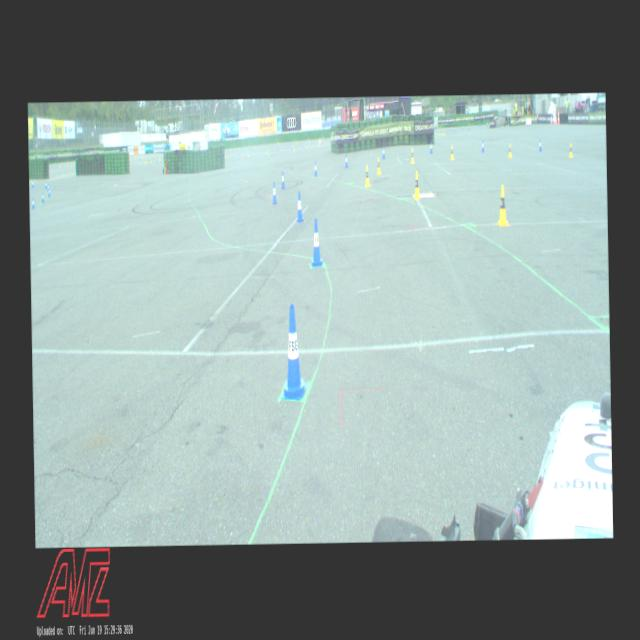blue_cone: (280, 303, 306, 399), (310, 218, 322, 266), (296, 191, 304, 222), (272, 181, 277, 204), (280, 170, 284, 188), (314, 160, 317, 177), (538, 138, 542, 150), (481, 138, 484, 152), (344, 153, 347, 167), (429, 140, 432, 153), (41, 192, 44, 203), (32, 196, 34, 209), (382, 146, 384, 158), (47, 183, 49, 192), (44, 180, 46, 189), (32, 180, 34, 188), (48, 188, 49, 196)
large_orange_cone: (558, 110, 560, 124), (552, 110, 554, 123)
yellow_cone: (497, 184, 508, 225), (413, 170, 420, 200), (364, 164, 370, 186), (376, 156, 381, 174), (449, 144, 454, 160), (410, 146, 414, 164), (508, 142, 512, 158), (568, 142, 572, 156)
